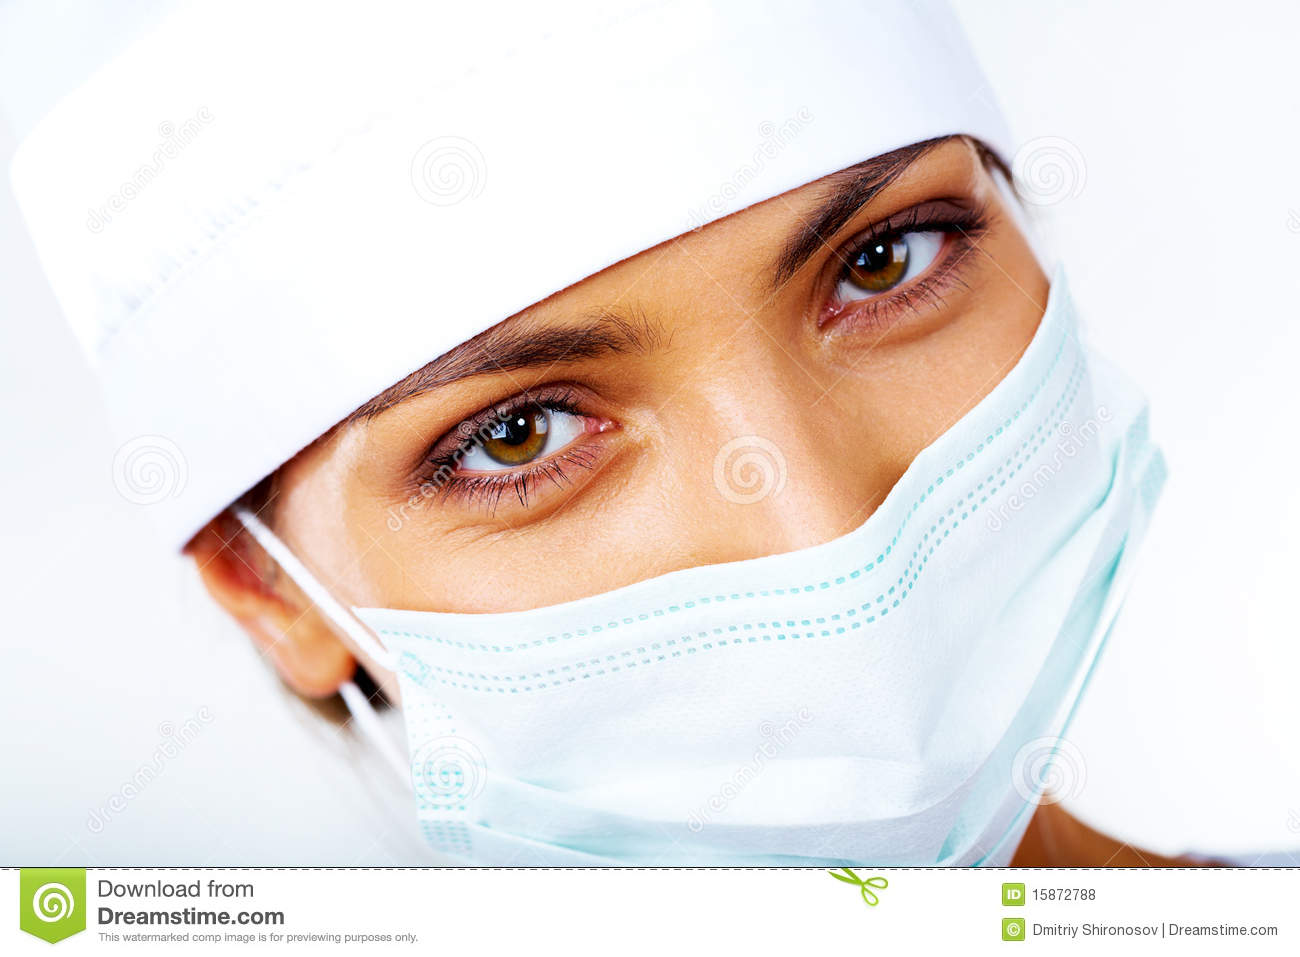mask: (353, 415, 1177, 860)
